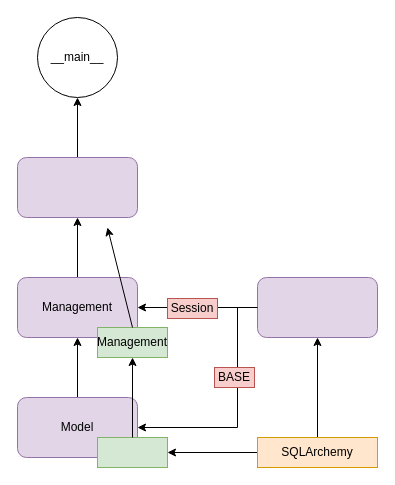
The diagram is 395 pixels wide and 485 high, and some of its shapes have lost their labels. Here are the shapes that lost their labels. From the top down, the centre of each, then its label:
At pixel 77 187: "View".
At pixel 317 307: "Setting".
At pixel 132 452: "User".
